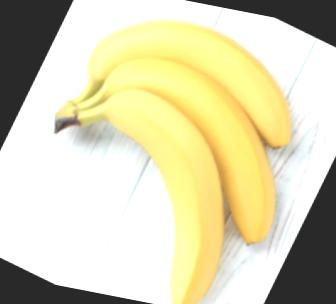Banana Ripe: (0, 0, 314, 304)
